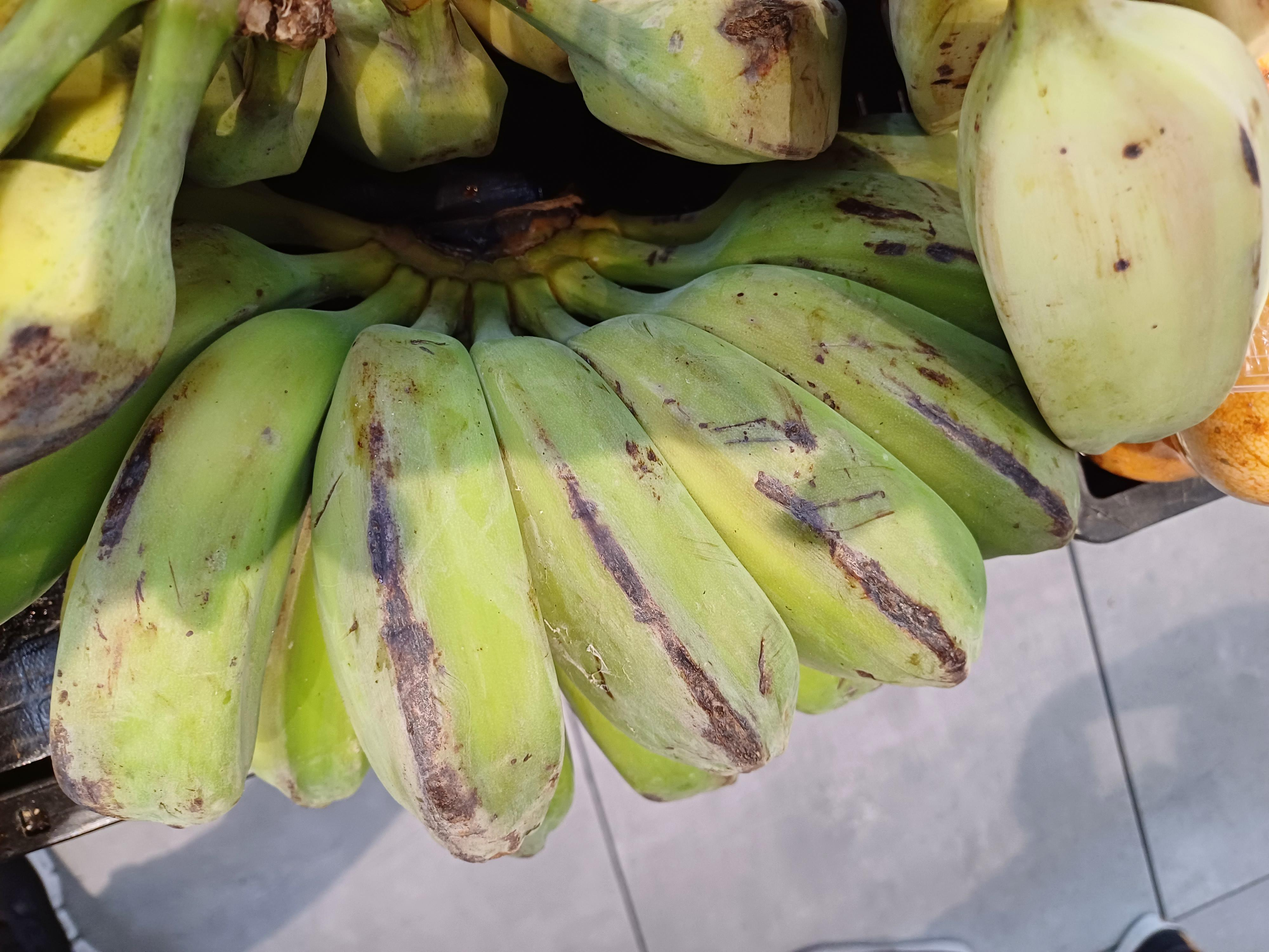underripe: (0, 133, 1080, 861)
